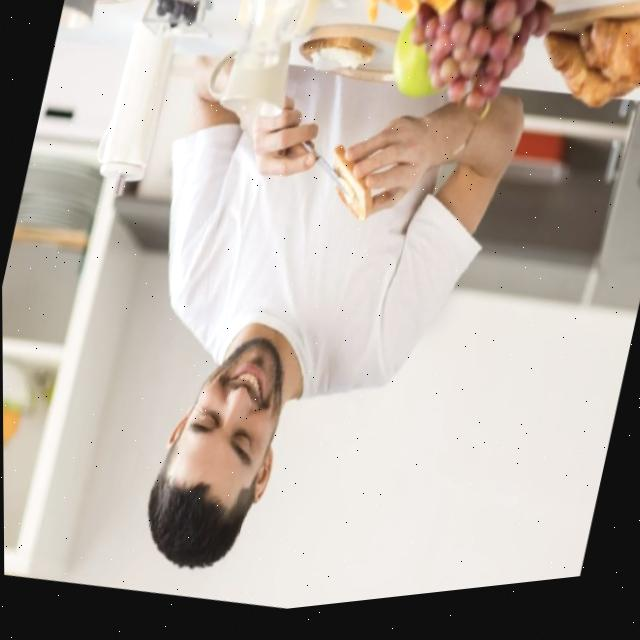eating-person: (73, 0, 565, 634)
